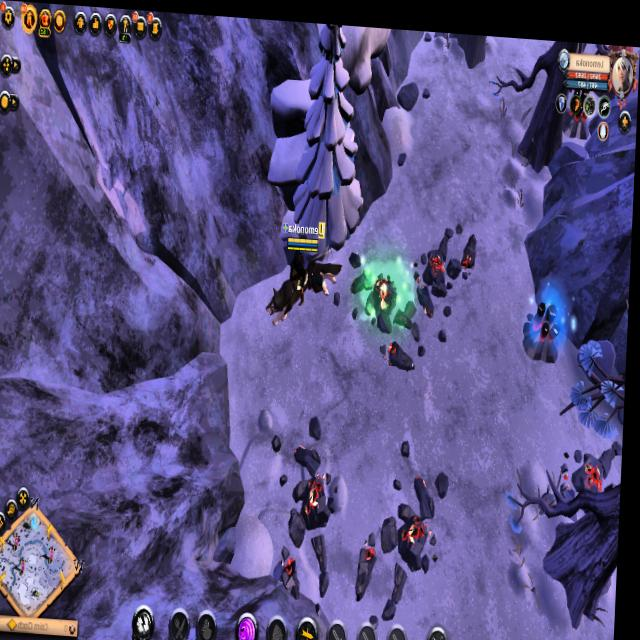ore tier 5: (524, 287, 569, 356)
